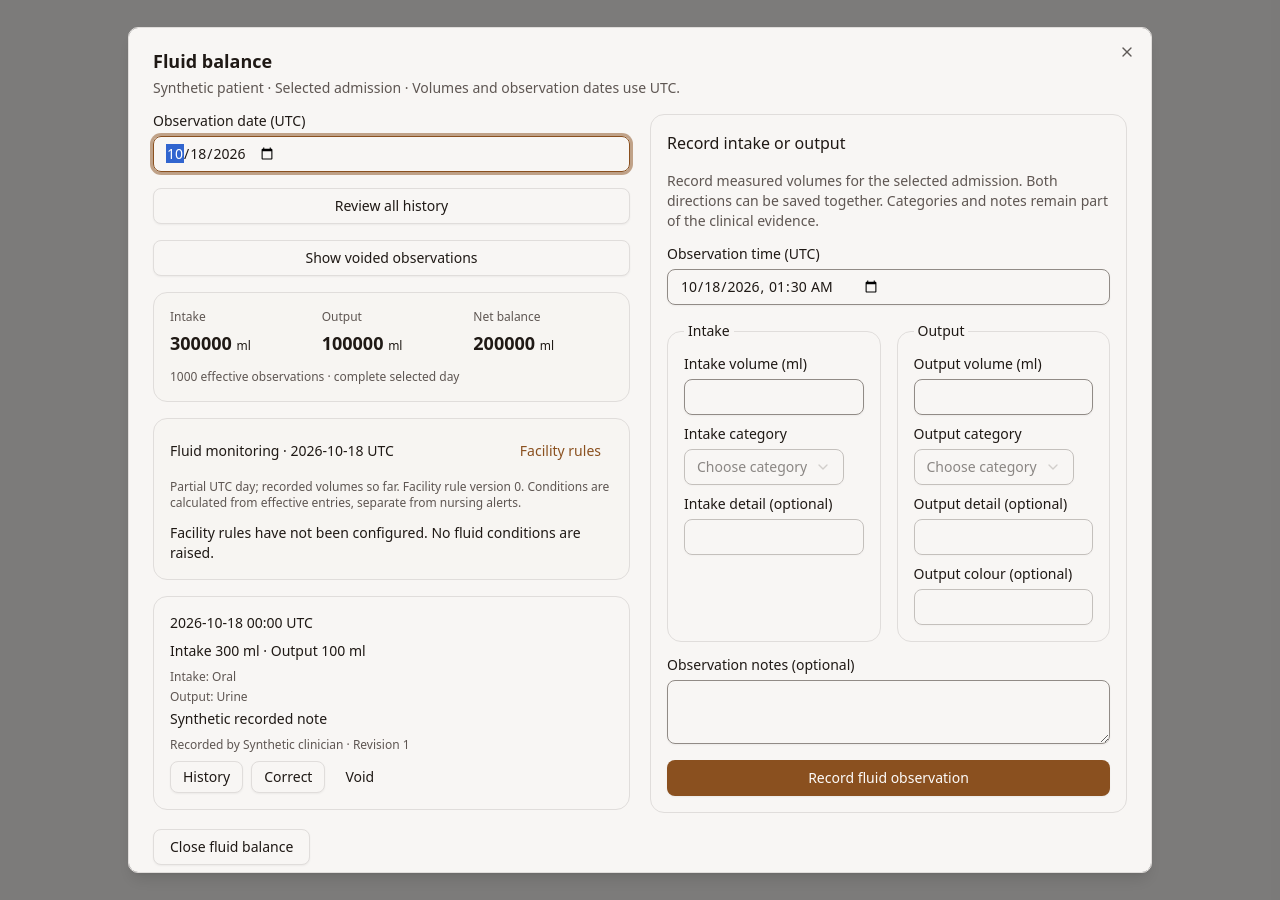
Test case: removes current narratives and copied values after a fresh /history denial
Expected: the text "Synthetic recorded note" is shown, [170,709,327,728]
Step 1. Type "Synthetic copied protected draft" into the text box labelled "Observation notes (optional)" → point(888, 712), box [667,680,1110,744]
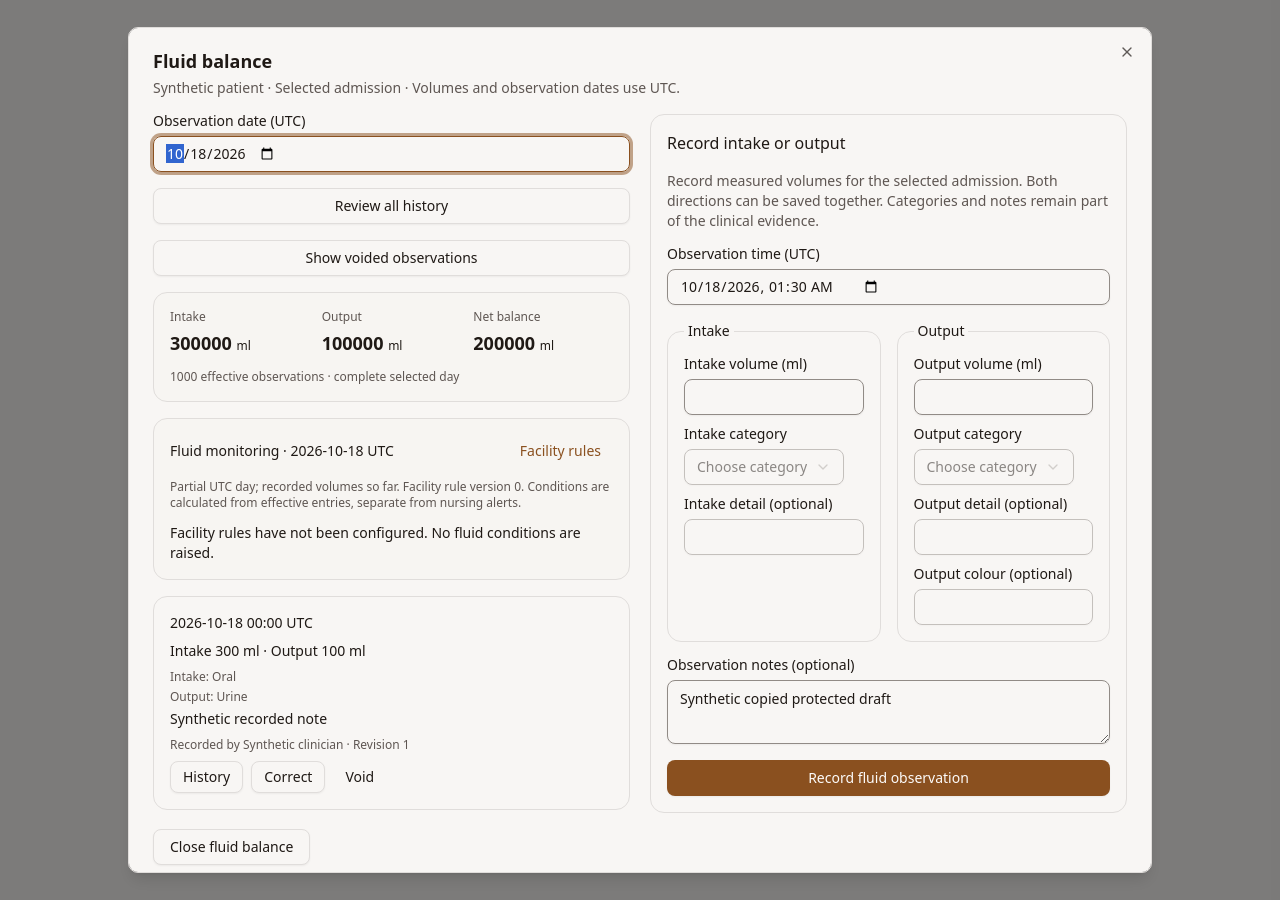
Step 2. Click the button "History" → point(207, 777), box [170,761,243,793]
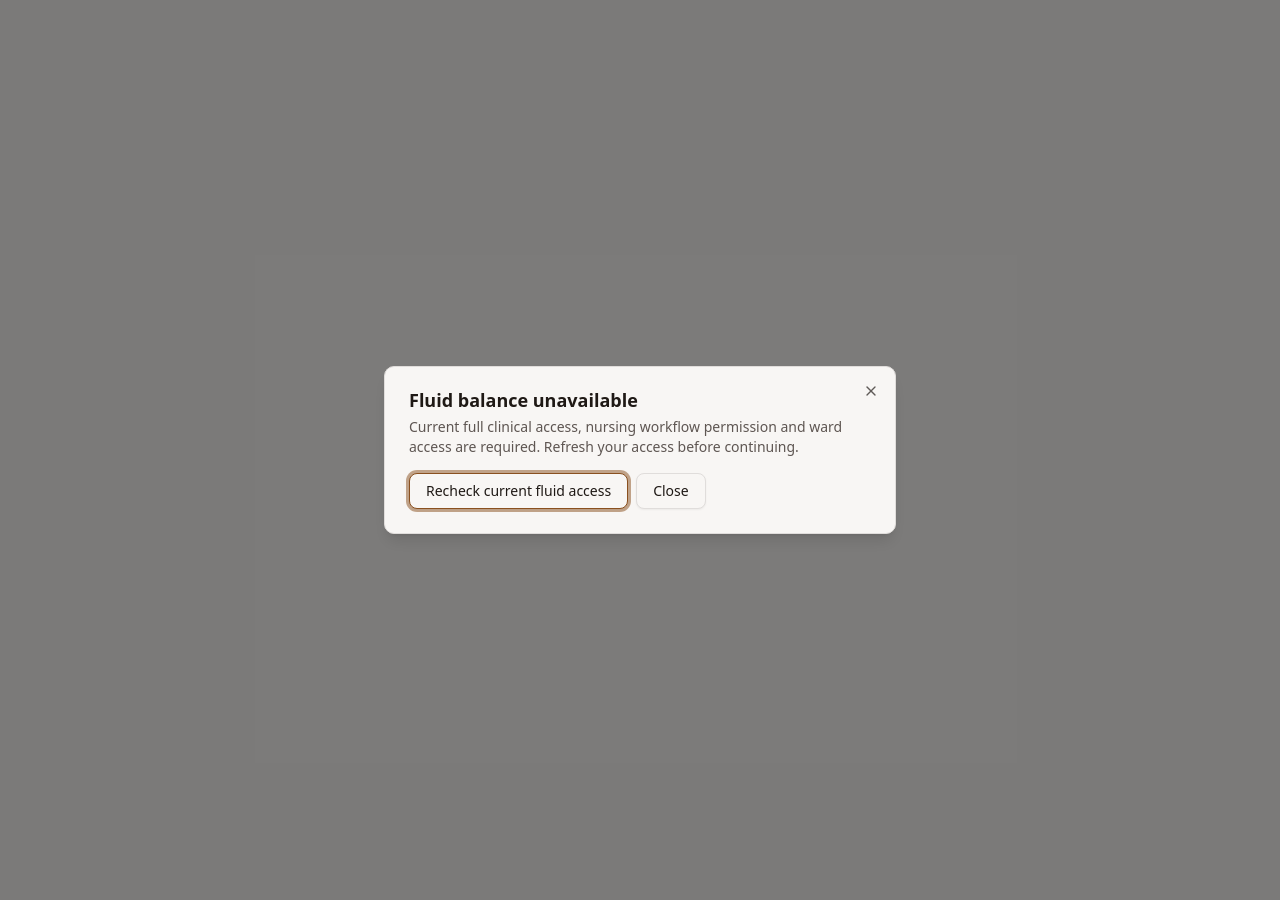
Now the heading "Fluid balance unavailable" is shown, box [409,388,638,412]
Now the text "Synthetic recorded note" is gone
Now the button "Correct" is gone
